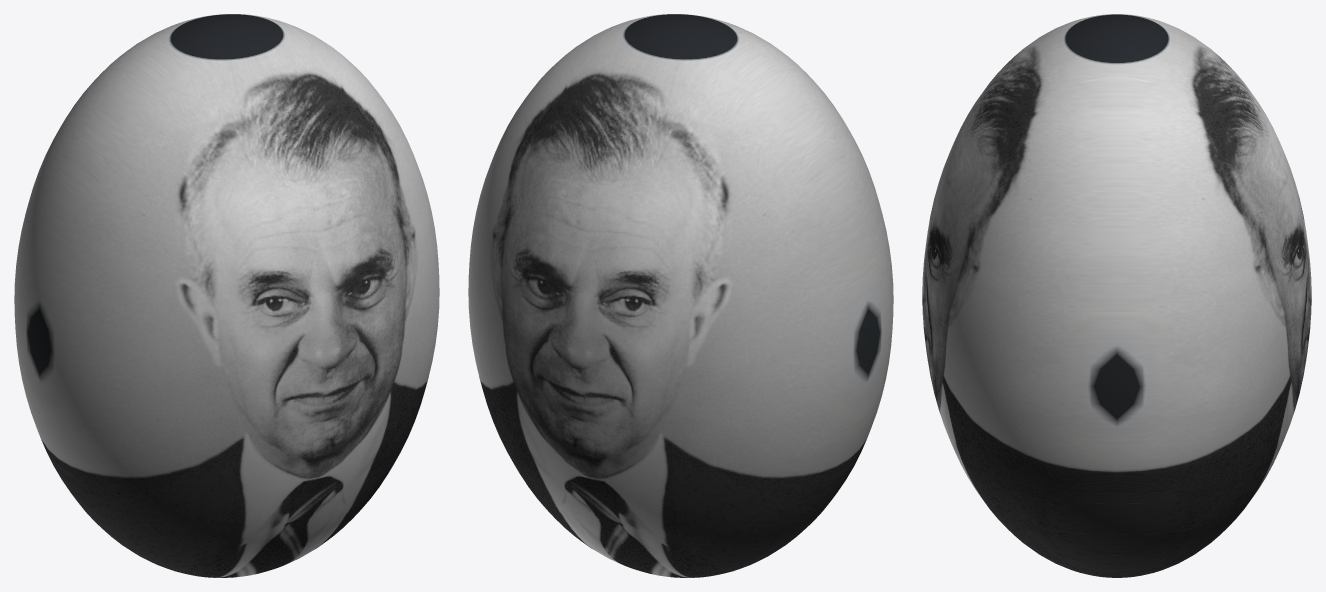
Rendered from wassily-leontief.glb.
The picture shows the model from 3 angles, left to right: view 1: azimuth 30°, elevation 25°; view 2: azimuth 150°, elevation 25°; view 3: azimuth 270°, elevation 25°; orthographic projection.
Parts seen in each view (by area): view 1: head; view 2: head; view 3: head.
Part boxes in pixels (x1,y1,x2,y2): head: [14, 14, 439, 577]; head: [468, 14, 893, 577]; head: [922, 14, 1311, 577].
Bounding box in the file's own units: 1.47 × 2 × 1.32.
1 material, 1 textured.
